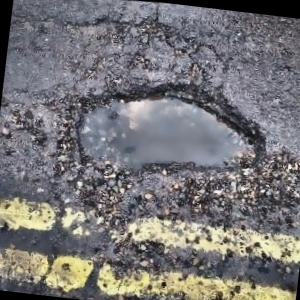pothole: (52, 62, 278, 203)
